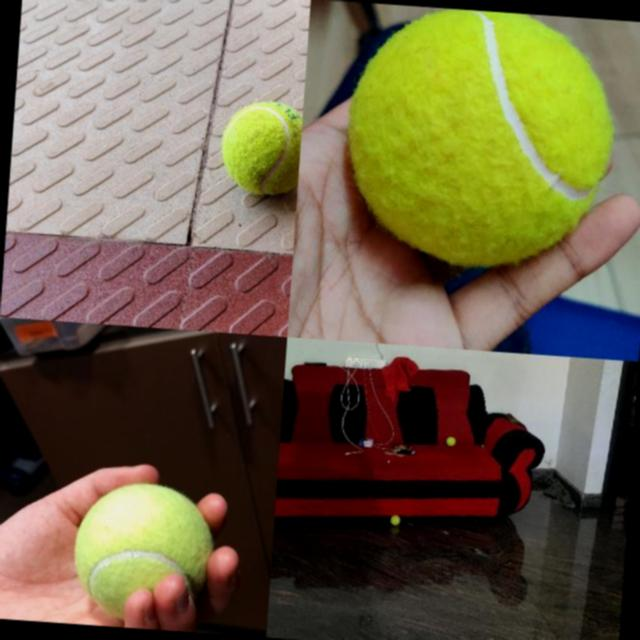Tennis Ball: (338, 2, 618, 272), (69, 478, 217, 628), (217, 98, 302, 196), (389, 514, 400, 525), (444, 436, 456, 446)
